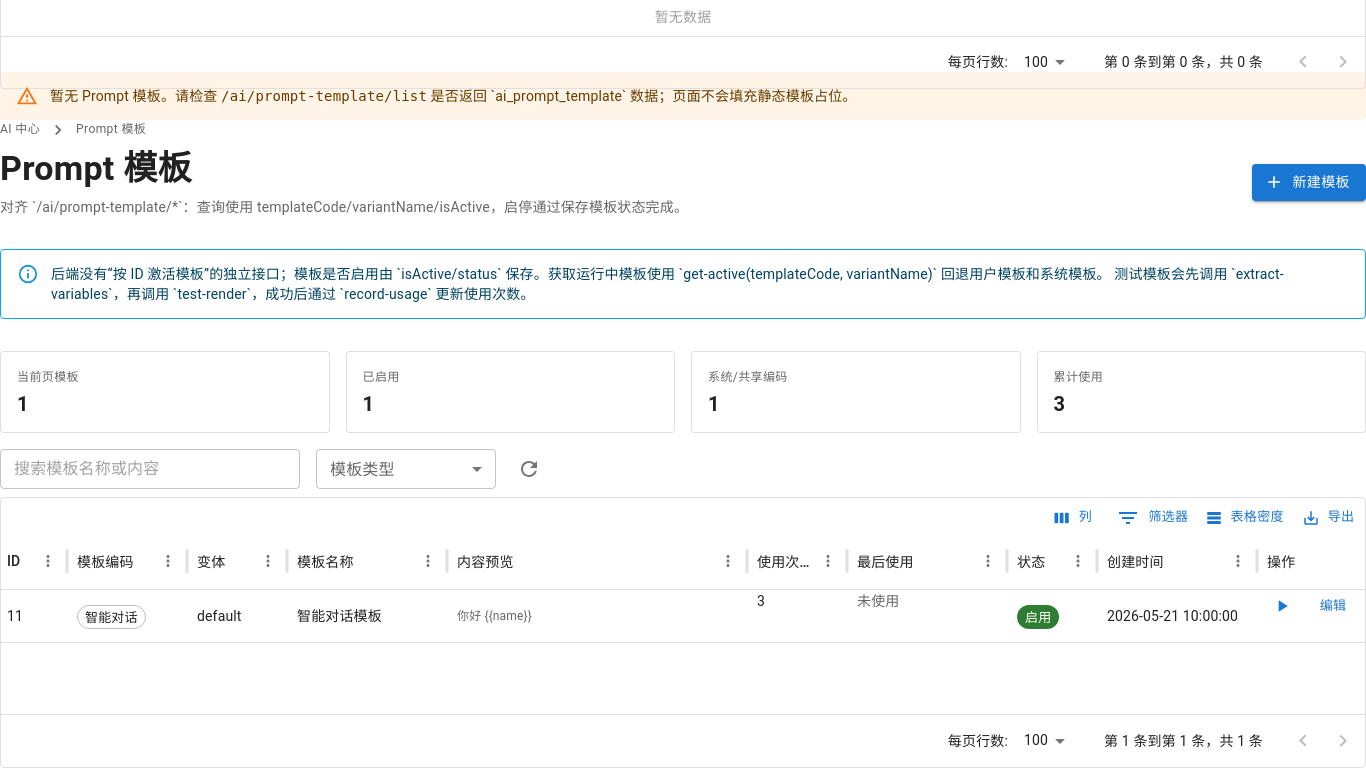
Test: Prompt tools pages › PromptTemplatePage shows operation errors and empty list downgrade inline
This screenshot has width=1366, height=768.
(page scrolled)
expect the text "暂无 Prompt 模板" is shown: met, box left=50, top=88, right=221, bottom=104
expect the text "不会填充静态模板占位" is shown: met, box left=427, top=88, right=856, bottom=104
Click the button "编辑" at (1333, 606), box left=1301, top=591, right=1365, bottom=622
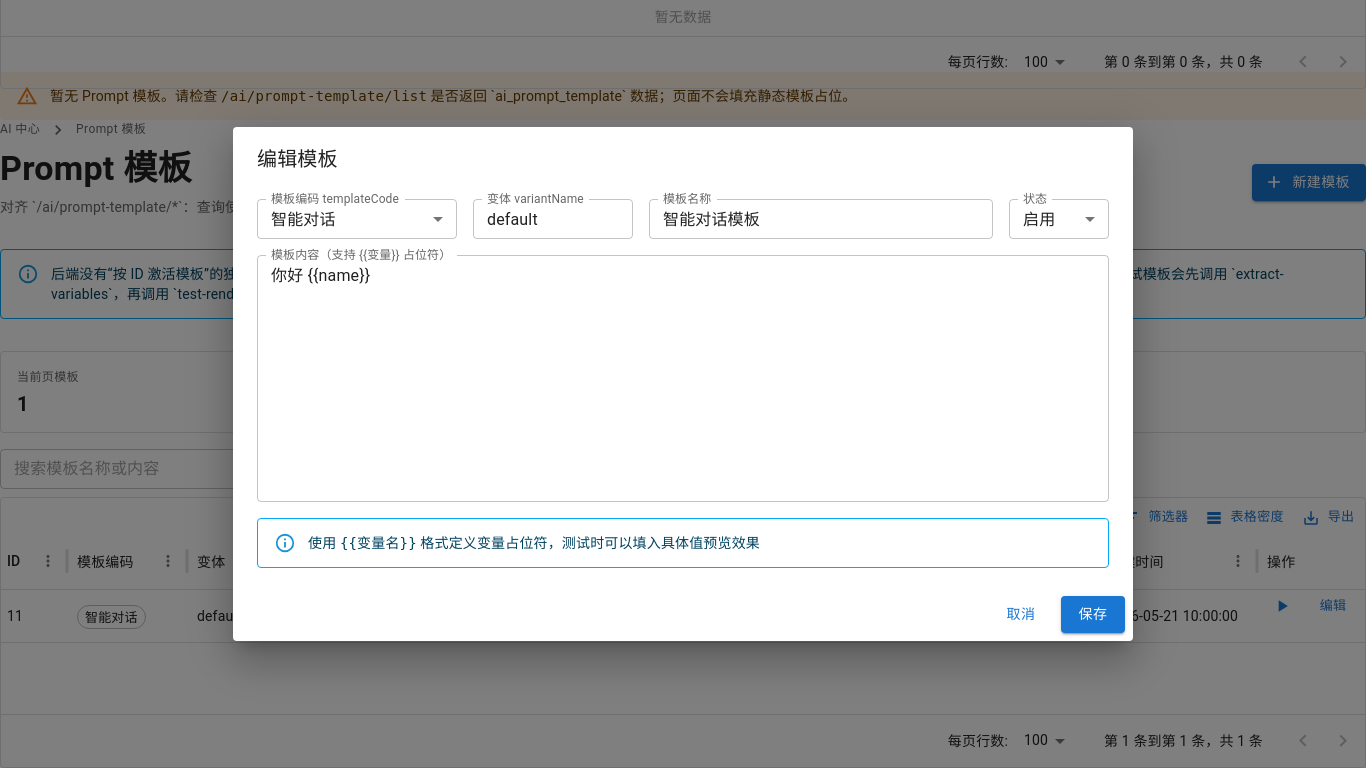
Click the button "保存" at (1093, 615), box left=1061, top=596, right=1125, bottom=633
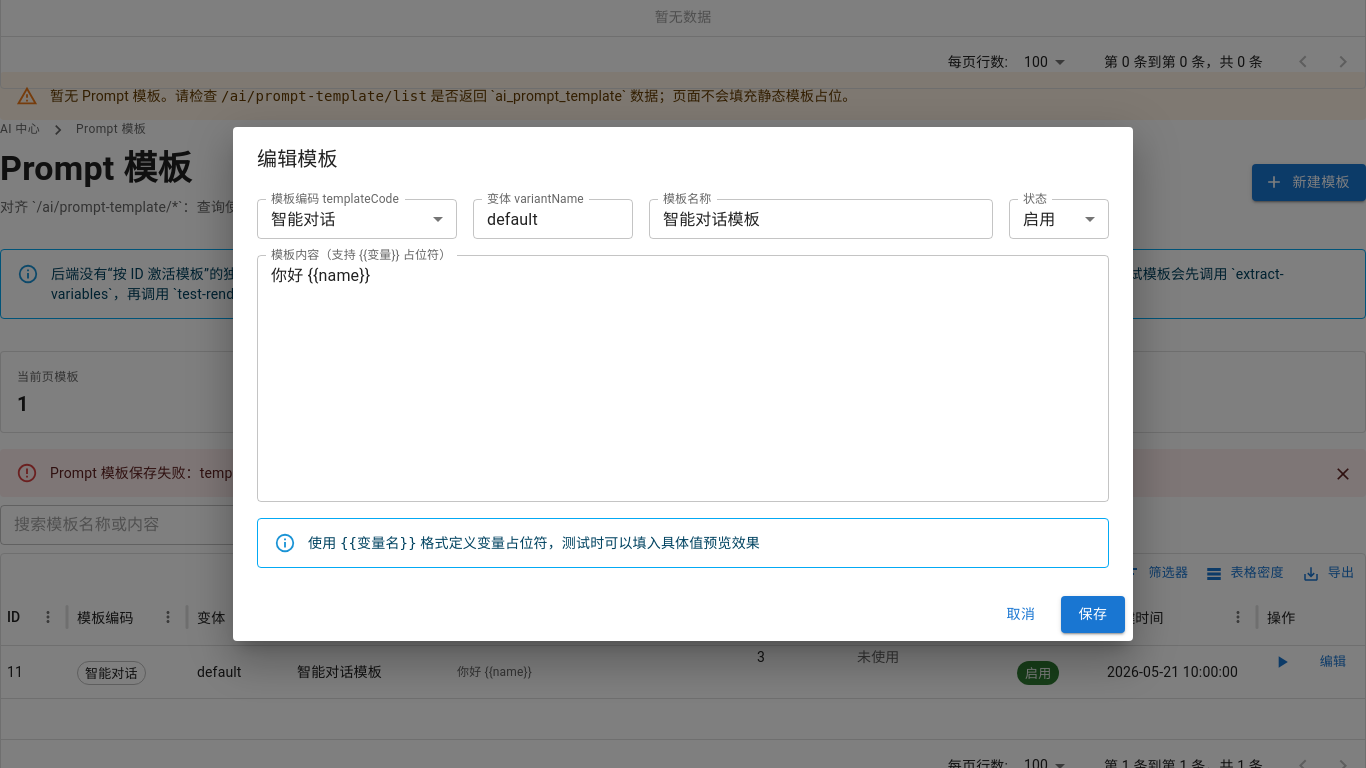
expect the text "/ai/prompt-template/save" is shown: met, box left=50, top=465, right=587, bottom=481
